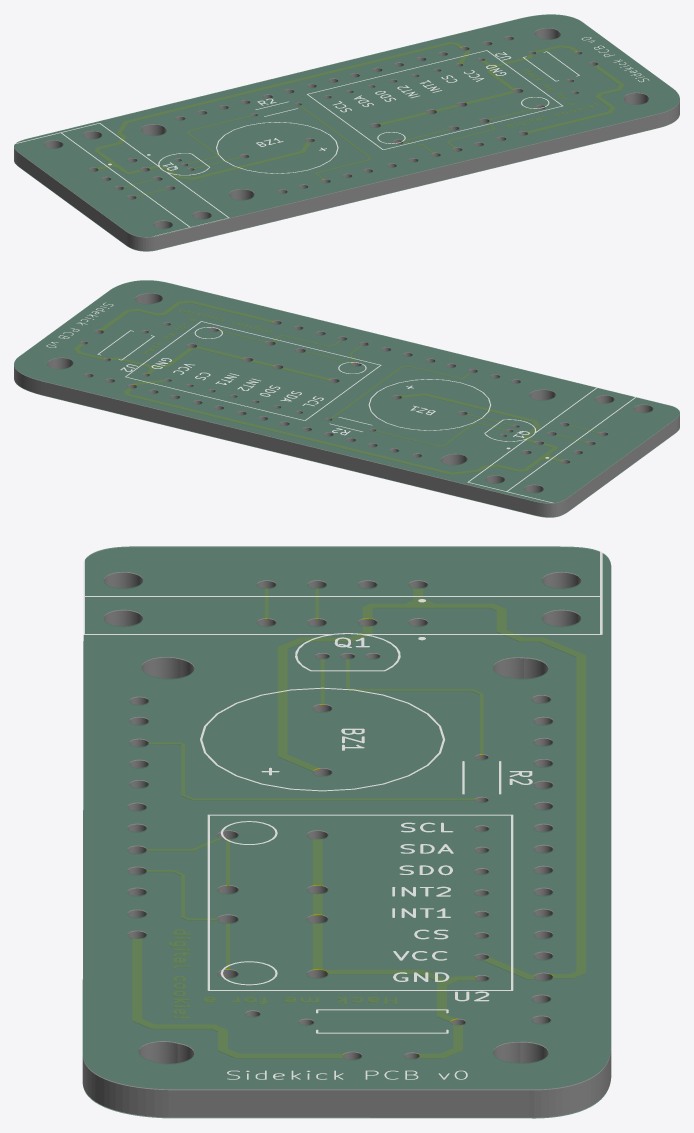
The model's file is sidekick-pcb.glb.
3 views of the same model, one above another, from view 1: azimuth 30°, elevation 25°; view 2: azimuth 150°, elevation 25°; view 3: azimuth 270°, elevation 25° (orthographic). The views are drawn at different scales.
Visible parts, largest first — view 1: =>[0:1:1:5], =>[0:1:1:4], =>[0:1:1:3], =>[0:1:1:2]; view 2: =>[0:1:1:5], =>[0:1:1:4], =>[0:1:1:3], =>[0:1:1:2]; view 3: =>[0:1:1:5], =>[0:1:1:4], =>[0:1:1:2], =>[0:1:1:3].
Boxes of the visible parts, x1,y1,x2,y2 form: =>[0:1:1:5]: (14, 15, 679, 250); =>[0:1:1:4]: (14, 14, 679, 251); =>[0:1:1:3]: (15, 37, 649, 236); =>[0:1:1:2]: (95, 42, 623, 196); =>[0:1:1:5]: (14, 281, 679, 517); =>[0:1:1:4]: (14, 280, 679, 517); =>[0:1:1:3]: (46, 302, 671, 502); =>[0:1:1:2]: (75, 301, 598, 474); =>[0:1:1:5]: (82, 548, 611, 1117); =>[0:1:1:4]: (82, 546, 611, 1118); =>[0:1:1:2]: (133, 589, 585, 1057); =>[0:1:1:3]: (83, 551, 602, 1079).
Size of the model in its own units: 0.0645 by 0.00166 by 0.0265.
